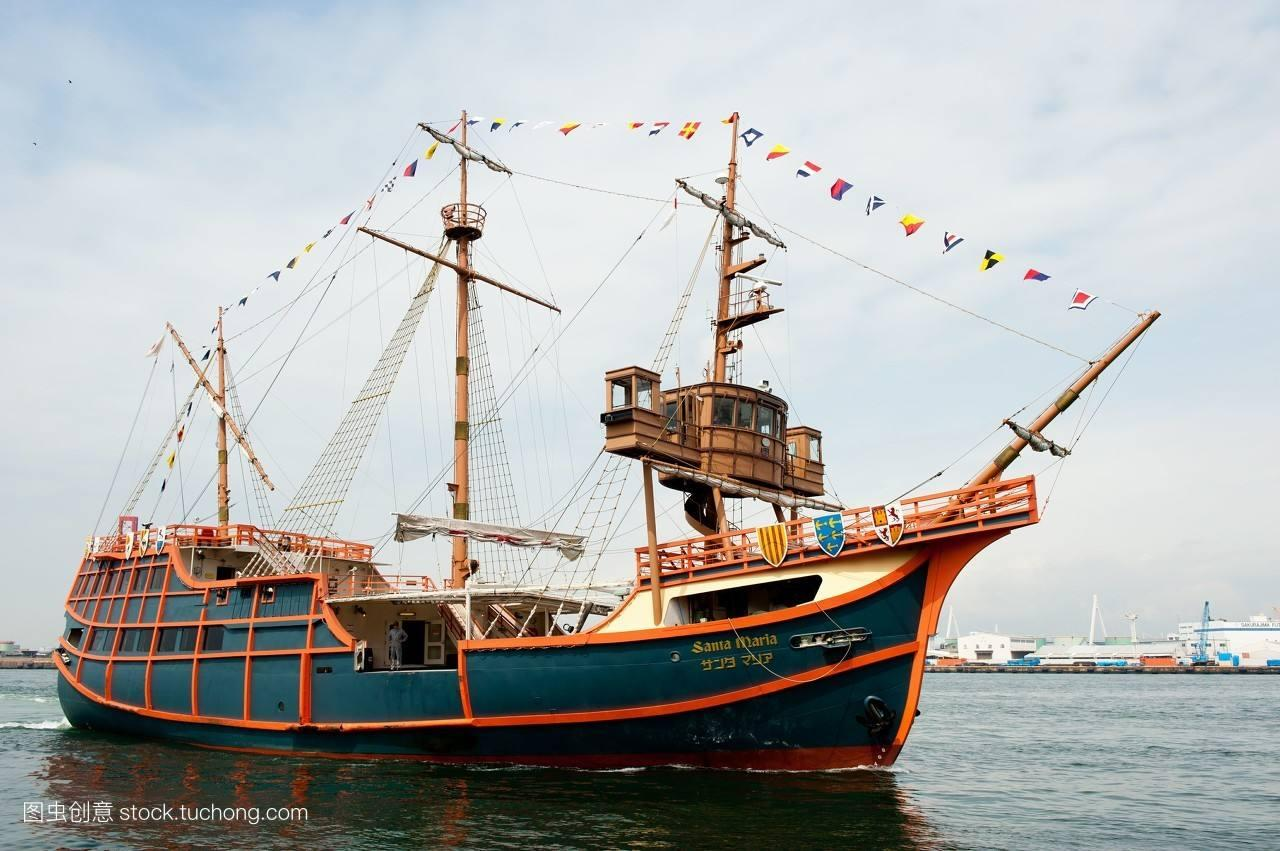fanchuan: (47, 106, 1171, 778)
